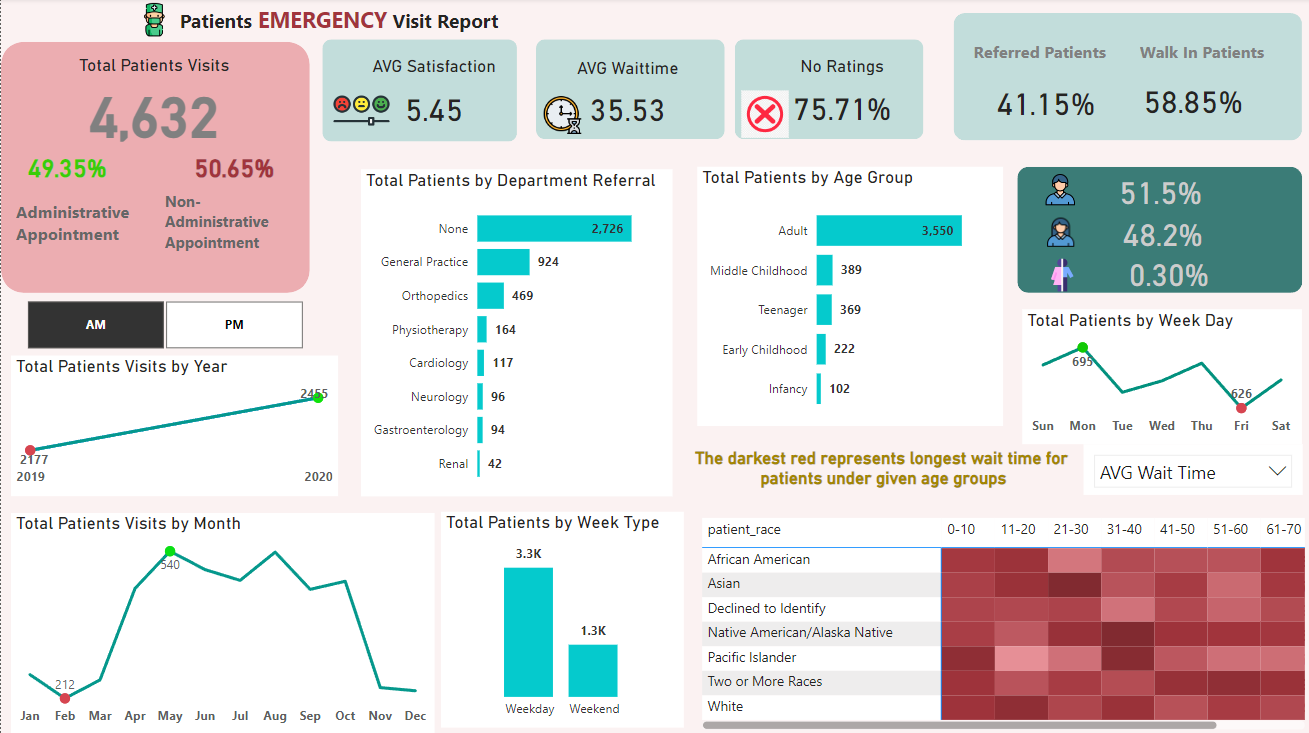

The page's visual inventory and layout, read from the dashboard file:
{"tool":"powerbi","page":{"name":"Page 1","canvas":[1280,720],"ordinal":0},"visuals":[{"type":"shape","box":[0,42.8,302,245.8],"z":0},{"type":"shape","box":[931.8,14.7,341.2,124.7],"z":1000},{"type":"shape","box":[314.3,40.4,190.8,100.3],"z":2000},{"type":"shape","box":[523.4,40.4,184.6,97.8],"z":3000},{"type":"shape","box":[717.8,40.4,184.6,97.8],"z":4000},{"type":"card","title":"Total Patients Visits","fields":{"Values":["Calculations.Total Patients"]},"box":[9.8,55,280,90.5],"z":5000},{"type":"card","fields":{"Values":["Calculations.Administrative Appointment"]},"box":[0,137,129.6,58.7],"z":6000},{"type":"pivotTable","fields":{"Values":["Calculations.AVG Wait Time"],"Rows":["Hospital ER.patient_race"],"Columns":["Hospital ER.Age Bracket"]},"box":[680.6,503.6,599.7,216.8],"z":7000},{"type":"slicer","fields":{"Values":["Parameter.Parameter"]},"box":[1059.4,436.4,214.1,49.4],"z":8000},{"type":"clusteredBarChart","title":"Total Patients by Department Referral","fields":{"Y":["Calculations.Total Patients"],"Category":["Hospital ER.department_referral"]},"box":[352.7,167.4,304.6,319.7],"z":9000},{"type":"clusteredBarChart","fields":{"Category":["Hospital ER.Age Group"],"Y":["Calculations.Total Patients"]},"box":[680.6,164.7,299.1,253.9],"z":10000},{"type":"lineChart","title":"Total Patients Visits by Month","fields":{"Category":["Date Table.Month"],"Y":["Calculations.Total Patients","Calculations.Values Max/Min Points (Month)"]},"box":[9.6,503.6,414.4,216.8],"z":11000},{"type":"card","title":"AVG Satisfaction","fields":{"Values":["Calculations.AVG Satisfaction"]},"box":[329.3,56.3,189.4,83.7],"z":12000,"group":"g1"},{"type":"lineChart","title":"Total Patients Visits by Year","fields":{"Y":["Calculations.Total Patients","Calculations.Values Max/Min Points (Year)"],"Category":["Date Table.Year"]},"box":[9.6,349.9,319.7,137.2],"z":12000},{"type":"card","title":"AVG Waittime","fields":{"Values":["Calculations.AVG Wait Time"]},"box":[518.7,59,189.4,78.2],"z":13000,"group":"g2"},{"type":"card","fields":{"Values":["Calculations.HeatMap Caption"]},"box":[647.7,418.5,430.9,83.7],"z":13000},{"type":"card","title":"No Ratings","fields":{"Values":["Calculations.Service not rated"]},"box":[727.8,55.7,190.8,81.9],"z":14000,"group":"g3"},{"type":"card","fields":{"Values":["Calculations.Non-Administrative Appointment"]},"box":[176.1,137,103.9,58.7],"z":14000},{"type":"image","box":[314.2,68.6,76.8,83.7],"z":15000,"group":"g1"},{"type":"textbox","box":[9.8,193.2,129.6,62.4],"z":15000},{"type":"image","box":[518.7,89.2,61.7,50.8],"z":16000,"group":"g2"},{"type":"textbox","box":[155.3,183.4,146.7,72.1],"z":16000},{"type":"textbox","box":[946.8,37,152.3,41.2],"z":17000},{"type":"image","box":[717.8,84.9,59,56.3],"z":17000,"group":"g3"},{"type":"card","fields":{"Values":["Calculations.Referred Patients"]},"box":[966,75.5,112.5,52.1],"z":18000},{"type":"textbox","box":[1108.8,37,142.7,41.2],"z":19000},{"type":"card","fields":{"Values":["Calculations.Walk In Patients"]},"box":[1108.8,71.4,113.9,59],"z":20000},{"type":"columnChart","fields":{"Y":["Calculations.Total Patients"],"Category":["Date Table.Week Type"]},"box":[430.9,502.2,237.4,211.3],"z":21000},{"type":"slicer","fields":{"Values":["Hospital ER.Moment"]},"box":[0,289.8,319.2,59.9],"z":22000},{"type":"group","id":"g1","title":"Group 1","box":[314.2,56.3,204.5,96.1],"z":23000},{"type":"group","id":"g2","title":"Group 2","box":[518.7,59,189.4,81],"z":24000},{"type":"group","id":"g3","title":"Group 3","box":[717.8,55.7,200.8,85.5],"z":25000},{"type":"image","box":[0,0,299.6,42.8],"z":26000},{"type":"textbox","box":[170,1.2,379.1,41.6],"z":27000},{"type":"shape","box":[994.2,165.1,278.8,123.5],"z":28000},{"type":"image","box":[994.2,166.3,84.4,42.8],"z":29000},{"type":"image","box":[999.1,209.1,75.8,40.4],"z":30000},{"type":"image","box":[1017.4,249.5,41.6,42.8],"z":31000},{"type":"card","fields":{"Values":["Calculations.Male %"]},"box":[1076.1,168.8,116.2,40.4],"z":32000},{"type":"card","fields":{"Values":["Calculations.Female %"]},"box":[1078.5,209.1,116.2,41.6],"z":33000},{"type":"card","fields":{"Values":["Calculations.Gender Unknown"]},"box":[1090.8,247,103.9,45.2],"z":34000},{"type":"lineChart","title":"Total Patients by Week Day","fields":{"Category":["Date Table.Week Day"],"Y":["Calculations.Total Patients","Calculations.Values Max/Min Points (day)"]},"box":[999.1,304.5,273.9,132.1],"z":35000}]}

Visuals, with their boxes in screenshot pixels (x1, y1, x2, y2), scaled from the page's 1280x720 canvas onto the 1309x733 screenshot:
shape: {"x1": 0, "y1": 44, "x2": 309, "y2": 294}
shape: {"x1": 953, "y1": 15, "x2": 1302, "y2": 142}
shape: {"x1": 321, "y1": 41, "x2": 517, "y2": 143}
shape: {"x1": 535, "y1": 41, "x2": 724, "y2": 141}
shape: {"x1": 734, "y1": 41, "x2": 923, "y2": 141}
"Total Patients Visits" card: {"x1": 10, "y1": 56, "x2": 296, "y2": 148}
card - Calculations.Administrative Appointment: {"x1": 0, "y1": 139, "x2": 133, "y2": 199}
pivotTable - Calculations.AVG Wait Time x Hospital ER.patient_race: {"x1": 696, "y1": 513, "x2": 1308, "y2": 732}
slicer - Parameter.Parameter: {"x1": 1083, "y1": 444, "x2": 1302, "y2": 495}
"Total Patients by Department Referral" clusteredBarChart: {"x1": 361, "y1": 170, "x2": 672, "y2": 496}
clusteredBarChart - Hospital ER.Age Group x Calculations.Total Patients: {"x1": 696, "y1": 168, "x2": 1002, "y2": 426}
"Total Patients Visits by Month" lineChart: {"x1": 10, "y1": 513, "x2": 434, "y2": 732}
"AVG Satisfaction" card: {"x1": 337, "y1": 57, "x2": 530, "y2": 143}
"Total Patients Visits by Year" lineChart: {"x1": 10, "y1": 356, "x2": 337, "y2": 496}
"AVG Waittime" card: {"x1": 530, "y1": 60, "x2": 724, "y2": 140}
card - Calculations.HeatMap Caption: {"x1": 662, "y1": 426, "x2": 1103, "y2": 511}
"No Ratings" card: {"x1": 744, "y1": 57, "x2": 939, "y2": 140}
card - Calculations.Non-Administrative Appointment: {"x1": 180, "y1": 139, "x2": 286, "y2": 199}
image: {"x1": 321, "y1": 70, "x2": 400, "y2": 155}
textbox: {"x1": 10, "y1": 197, "x2": 143, "y2": 260}
image: {"x1": 530, "y1": 91, "x2": 594, "y2": 143}
textbox: {"x1": 159, "y1": 187, "x2": 309, "y2": 260}
textbox: {"x1": 968, "y1": 38, "x2": 1124, "y2": 80}
image: {"x1": 734, "y1": 86, "x2": 794, "y2": 144}
card - Calculations.Referred Patients: {"x1": 988, "y1": 77, "x2": 1103, "y2": 130}
textbox: {"x1": 1134, "y1": 38, "x2": 1280, "y2": 80}
card - Calculations.Walk In Patients: {"x1": 1134, "y1": 73, "x2": 1250, "y2": 133}
columnChart - Calculations.Total Patients x Date Table.Week Type: {"x1": 441, "y1": 511, "x2": 683, "y2": 726}
slicer - Hospital ER.Moment: {"x1": 0, "y1": 295, "x2": 326, "y2": 356}
"Group 1" group: {"x1": 321, "y1": 57, "x2": 530, "y2": 155}
"Group 2" group: {"x1": 530, "y1": 60, "x2": 724, "y2": 143}
"Group 3" group: {"x1": 734, "y1": 57, "x2": 939, "y2": 144}
image: {"x1": 0, "y1": 0, "x2": 306, "y2": 44}
textbox: {"x1": 174, "y1": 1, "x2": 562, "y2": 44}
shape: {"x1": 1017, "y1": 168, "x2": 1302, "y2": 294}
image: {"x1": 1017, "y1": 169, "x2": 1103, "y2": 213}
image: {"x1": 1022, "y1": 213, "x2": 1099, "y2": 254}
image: {"x1": 1040, "y1": 254, "x2": 1083, "y2": 298}
card - Calculations.Male %: {"x1": 1100, "y1": 172, "x2": 1219, "y2": 213}
card - Calculations.Female %: {"x1": 1103, "y1": 213, "x2": 1222, "y2": 255}
card - Calculations.Gender Unknown: {"x1": 1116, "y1": 251, "x2": 1222, "y2": 297}
"Total Patients by Week Day" lineChart: {"x1": 1022, "y1": 310, "x2": 1302, "y2": 444}
